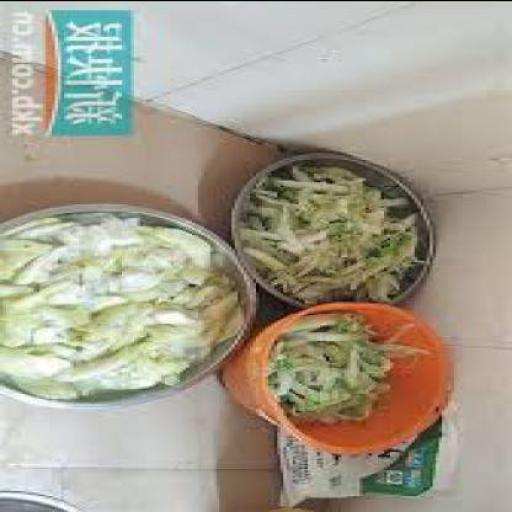biodegradable: (3, 215, 247, 387), (250, 166, 423, 304), (272, 312, 394, 424), (18, 369, 95, 398), (384, 326, 430, 360)
metal: (3, 206, 262, 408), (225, 153, 442, 307), (2, 490, 90, 511)
plastic: (226, 303, 457, 456), (281, 426, 454, 509)
